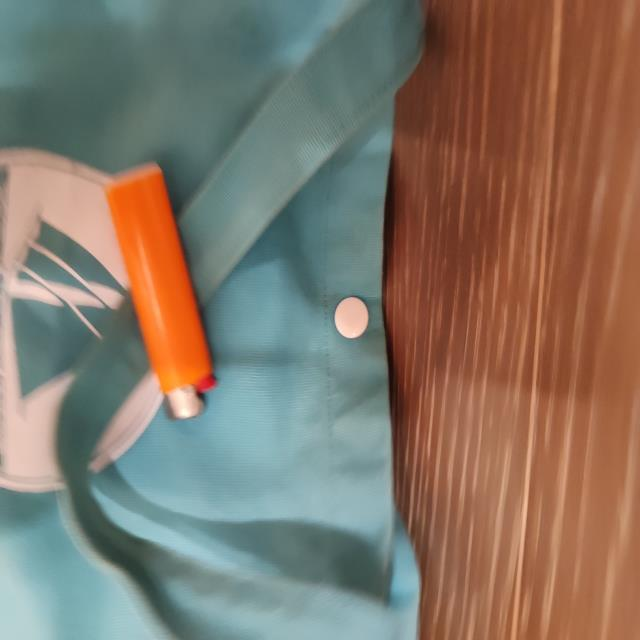lighter: (106, 166, 215, 395)
